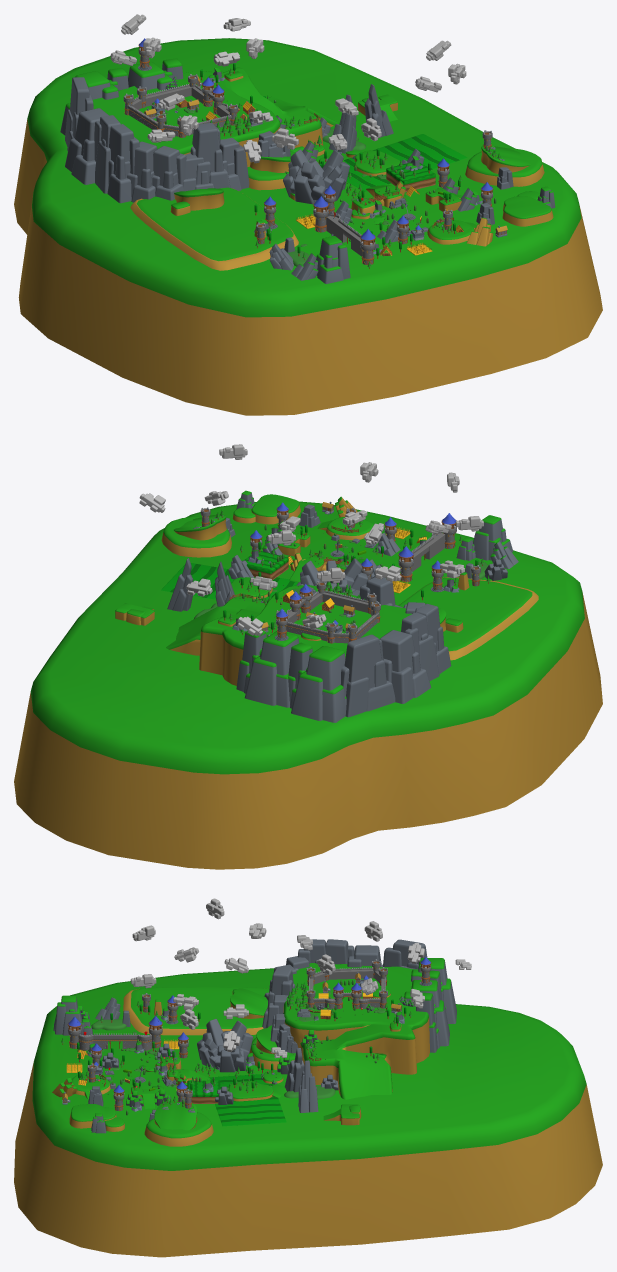
Rendered from medievalmap.glb.
3 views of the same model, one above another, from view 1: azimuth 30°, elevation 25°; view 2: azimuth 150°, elevation 25°; view 3: azimuth 270°, elevation 25° (orthographic). The views are drawn at different scales.
Parts seen in each view (by area): view 1: Hill_3 (×3), Hill_1, Island_1, Platform_W_1, Rocks_1 (5), Rocks_1 (7), Rocks_1 (1), Rocks_1 (3), Hill_4 (2), Rocks_1_2 (4), Rocks_1 (4), Rocks_1 (6) (+16 smaller); view 2: Hill_3 (×2), Island_1, Hill_1, Rocks_1 (8), Rocks_1_2, Rocks_1_2 (2), Rocks_1 (7), Hill_4 (2), Rocks_1 (6), Platform_W_1, Rocks_1_2 (4), Rocks_1 (5) (+8 smaller); view 3: Hill_3 (×3), Island_1, Hill_1, Platform_W_1, Hill_4 (2), Clif_2 (2), Rocks_1_2, Rocks_1_2 (2), Clif_2, Rocks_3 2 (4), Rocks_1 (8), Rocks_1_2 (4) (+10 smaller).
Part boxes in pixels (<box>): Hill_3 (×3): <box>14,38,602,415</box>; Hill_1: <box>130,187,298,270</box>; Island_1: <box>92,67,337,166</box>; Platform_W_1: <box>344,134,467,191</box>; Rocks_1 (5): <box>107,124,139,203</box>; Rocks_1 (7): <box>65,108,108,184</box>; Rocks_1 (1): <box>190,122,230,188</box>; Rocks_1 (3): <box>152,146,186,200</box>; Hill_4 (2): <box>465,148,544,186</box>; Rocks_1_2 (4): <box>316,236,350,283</box>; Rocks_1 (4): <box>127,141,157,202</box>; Rocks_1 (6): <box>94,115,120,193</box>; Hill_3 (×2): <box>14,494,602,869</box>; Island_1: <box>166,585,411,685</box>; Hill_1: <box>398,577,538,660</box>; Rocks_1 (8): <box>340,634,395,717</box>; Rocks_1_2: <box>291,646,346,722</box>; Rocks_1_2 (2): <box>244,631,299,707</box>; Rocks_1 (7): <box>380,630,431,703</box>; Hill_4 (2): <box>161,516,231,557</box>; Rocks_1 (6): <box>401,612,439,681</box>; Platform_W_1: <box>161,563,297,600</box>; Rocks_1_2 (4): <box>473,515,513,560</box>; Rocks_1 (5): <box>416,603,451,673</box>; Hill_3 (×3): <box>14,968,602,1257</box>; Island_1: <box>283,963,429,1099</box>; Hill_1: <box>123,987,269,1035</box>; Platform_W_1: <box>208,1074,286,1126</box>; Hill_4 (2): <box>144,1112,213,1146</box>; Clif_2 (2): <box>154,1101,197,1130</box>; Rocks_1_2: <box>411,958,456,1023</box>; Rocks_1_2 (2): <box>404,980,449,1046</box>; Clif_2: <box>230,988,267,1018</box>; Rocks_3 2 (4): <box>298,1060,318,1112</box>; Rocks_1 (8): <box>383,939,427,969</box>; Rocks_1_2 (4): <box>53,995,82,1035</box>.
Size of what is drawn, in the model's own units: 117 by 52.77 by 142.
Materials: 21 (2 with a texture image).
